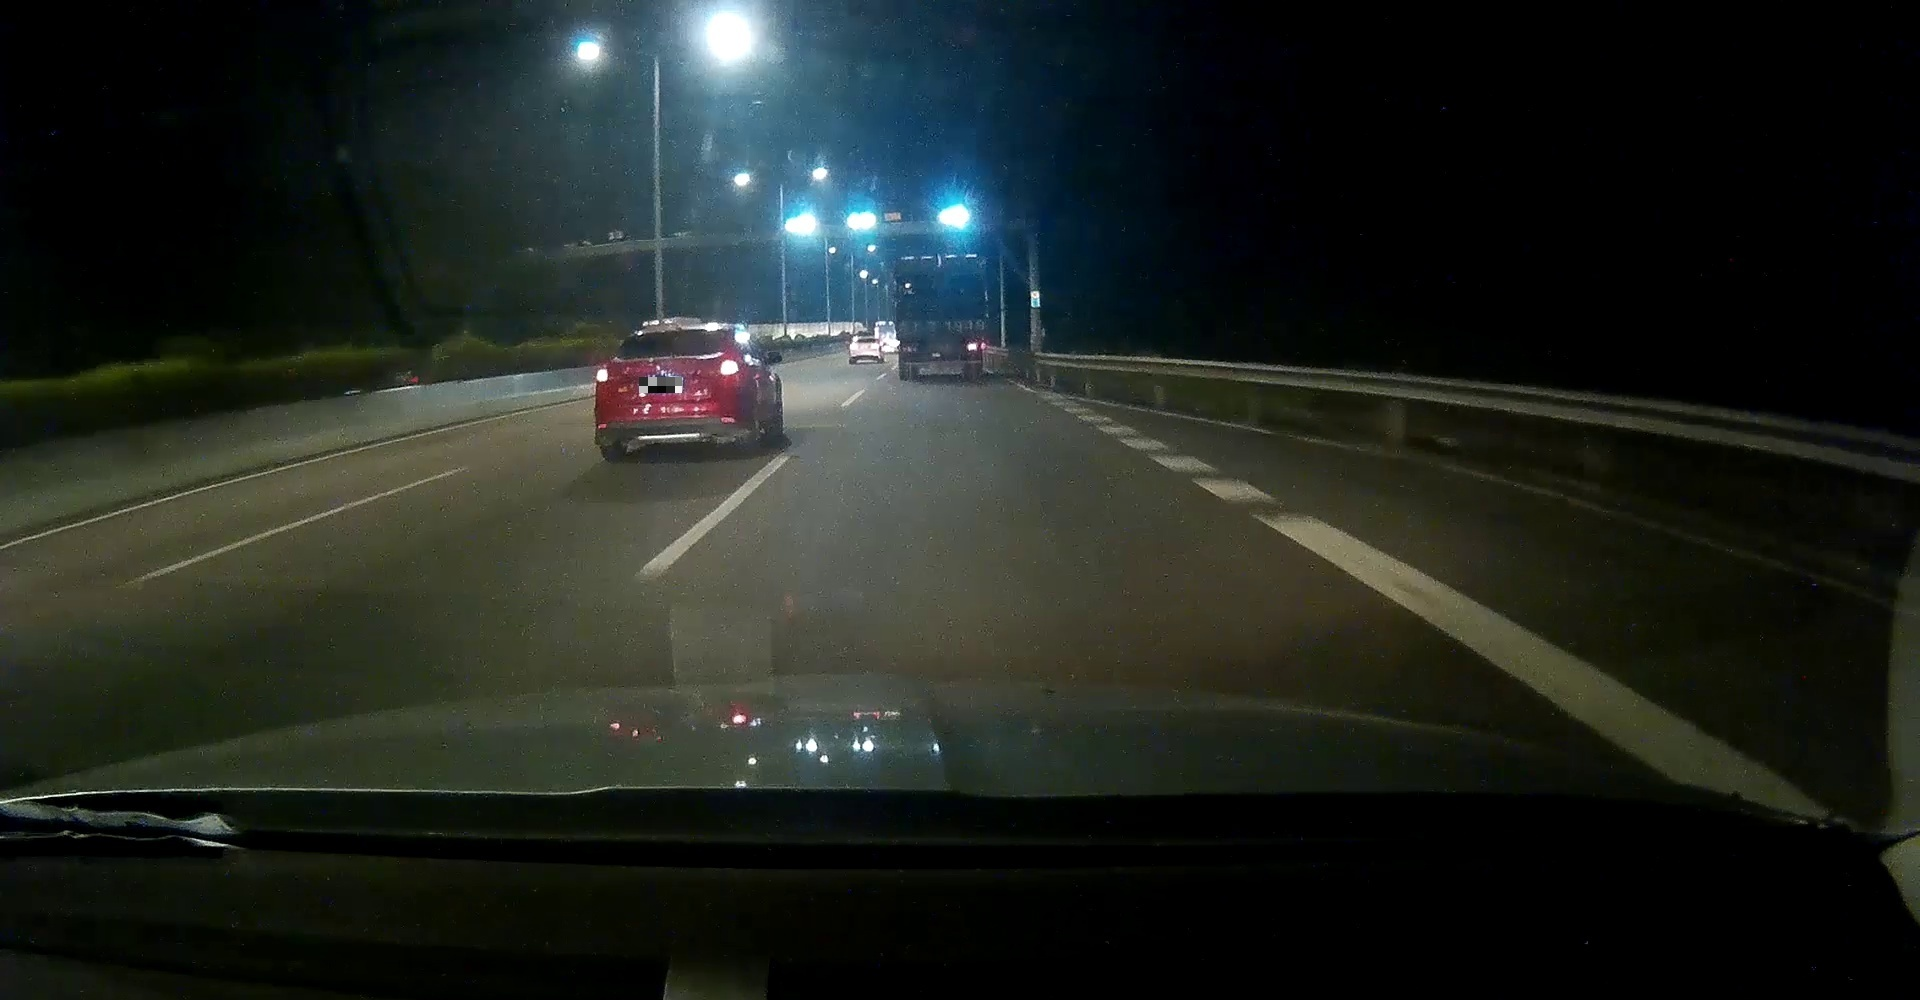L_light: (596, 368, 608, 383)
R_light: (719, 360, 738, 376)
T_light: (659, 331, 683, 335)
night-no: (590, 322, 742, 461)
plate_1: (639, 377, 682, 393)
